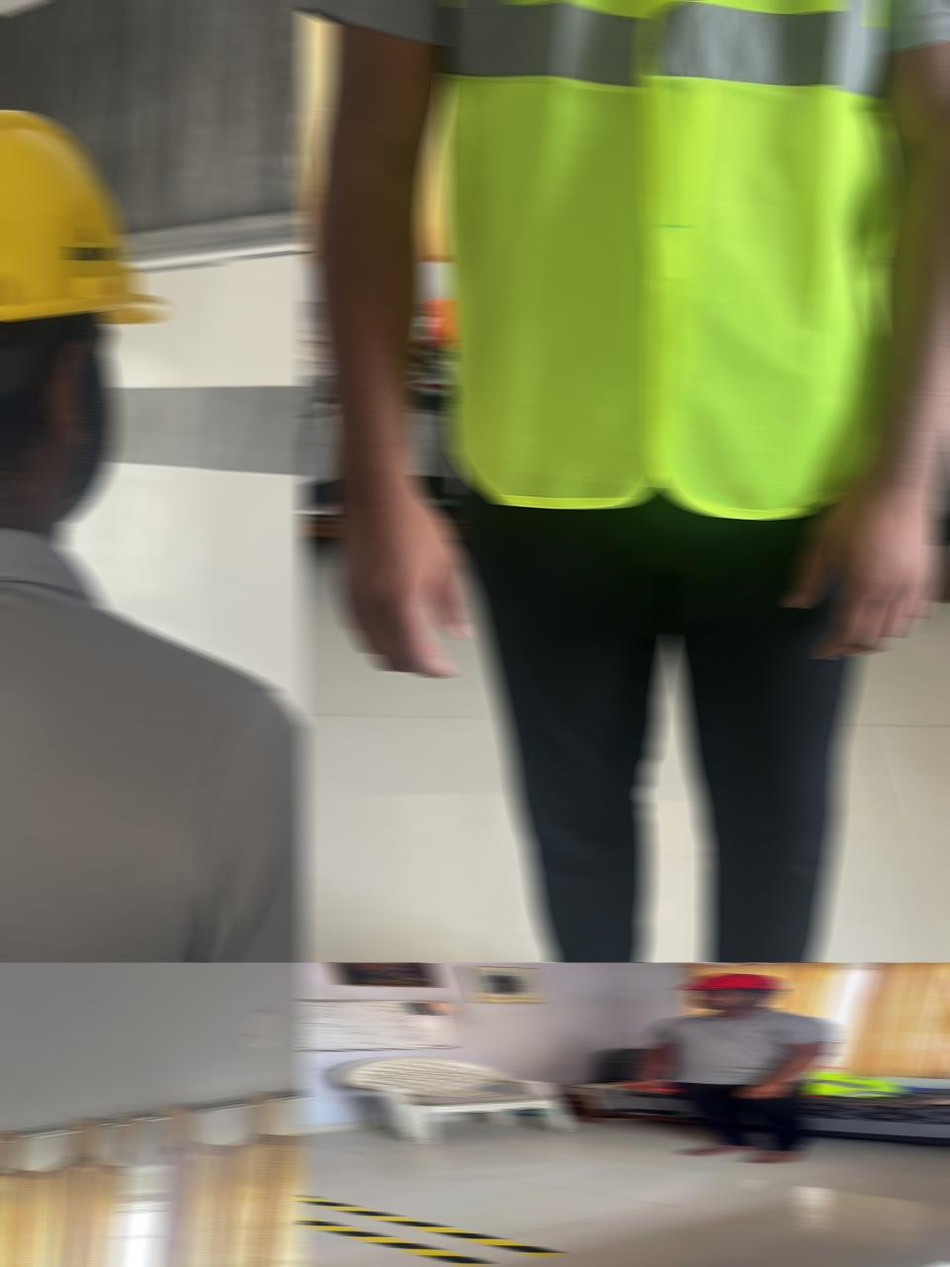BorderLine: (300, 1194, 567, 1266)
Helmet: (0, 102, 170, 334), (669, 972, 788, 990)
No_Vest: (0, 506, 307, 962), (641, 1007, 838, 1084)
Person: (300, 0, 950, 962), (0, 105, 307, 962), (632, 972, 840, 1164)
Vest: (389, 0, 949, 521)
